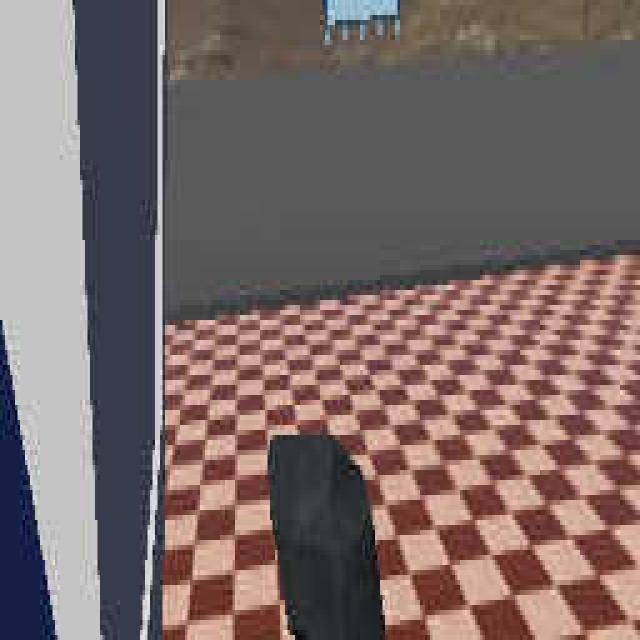rock: (268, 433, 386, 640)
